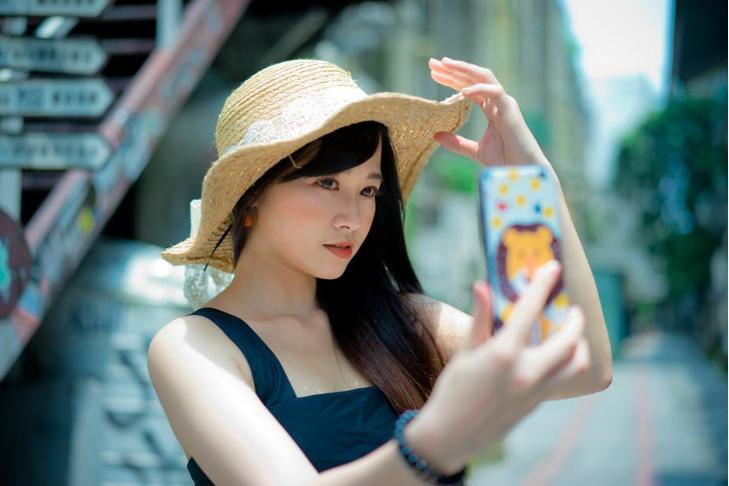face: (273, 136, 380, 279)
